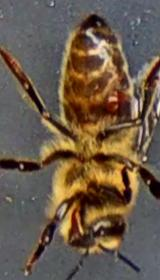varroa_mite: (98, 88, 136, 114)
